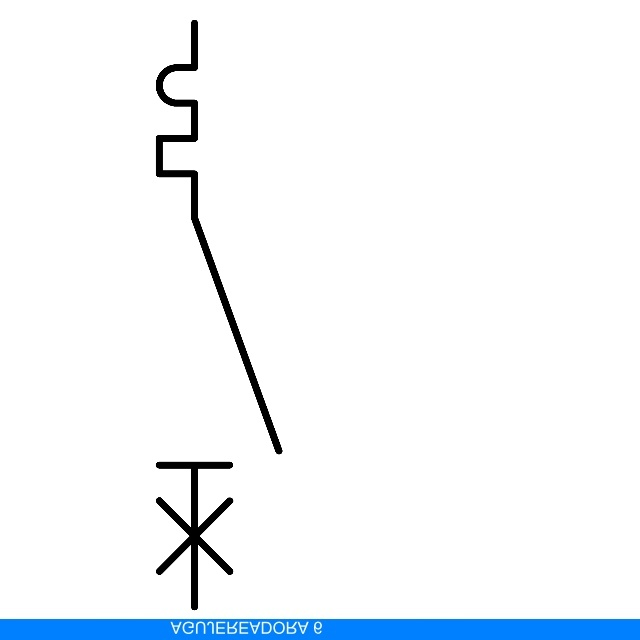interruptor_termomagnetico: (144, 8, 294, 622)
